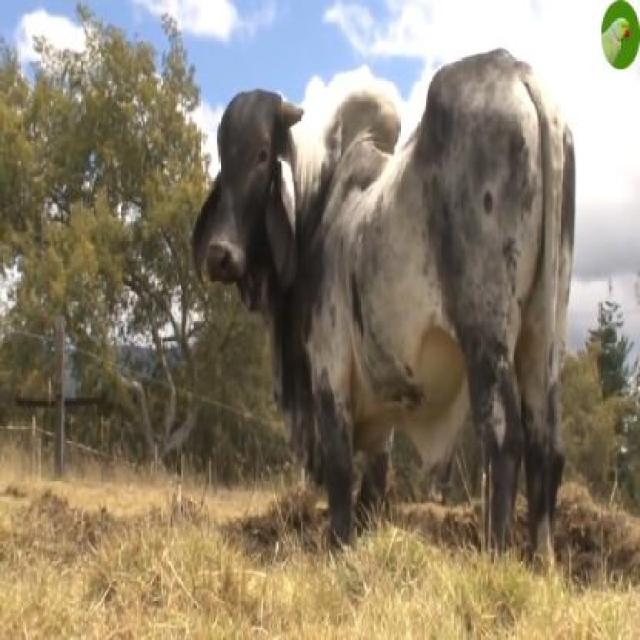Cow: (198, 37, 572, 563)
